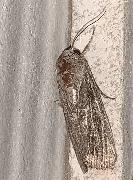army worm adult: (37, 7, 127, 174)
